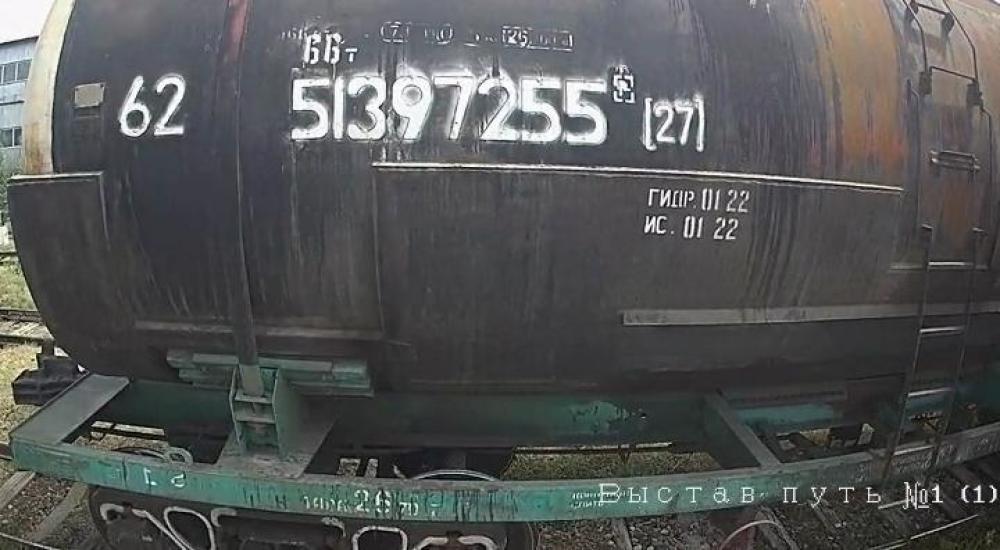Wagon-number: (287, 64, 614, 152)
